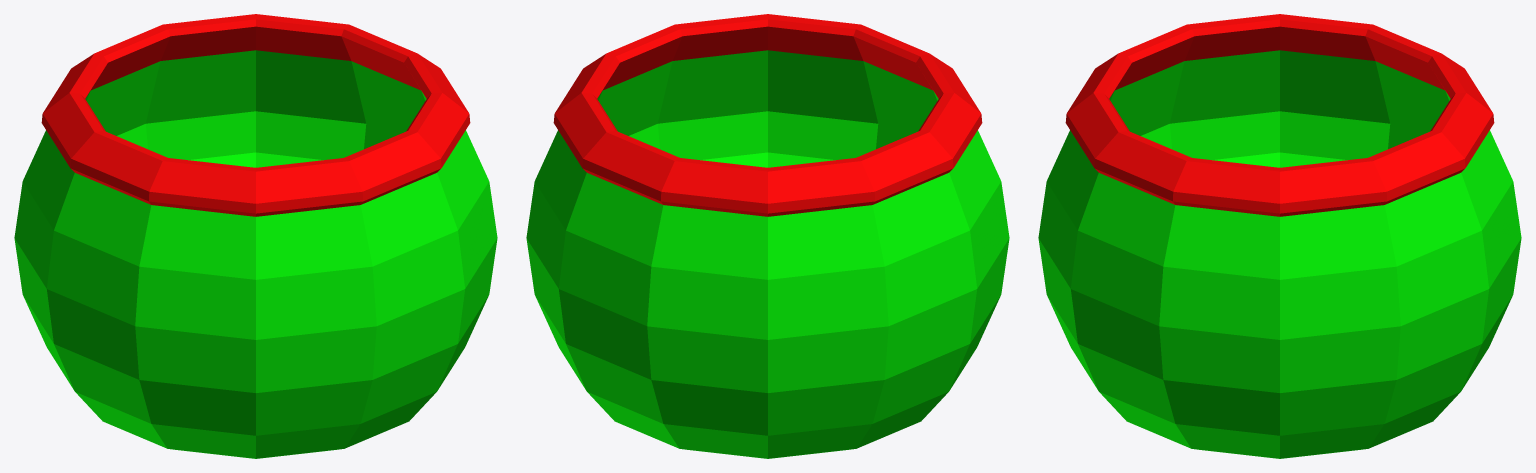
File: POT_1.fbx
3 views of the same model, side by side, from view 1: azimuth 30°, elevation 25°; view 2: azimuth 150°, elevation 25°; view 3: azimuth 270°, elevation 25° (orthographic).
Parts seen in each view (by area): view 1: POTERIE_1; view 2: POTERIE_1; view 3: POTERIE_1.
Boxes of the visible parts, box(x1,y1,x2,y2) form: POTERIE_1: box(14, 14, 497, 458); POTERIE_1: box(526, 14, 1009, 458); POTERIE_1: box(1038, 14, 1521, 458).
Bounding box in the file's own units: 60 × 40.86 × 60.
